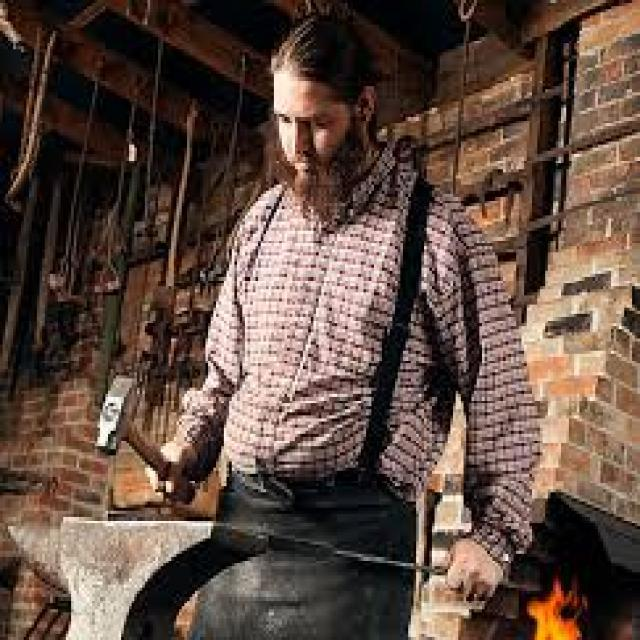hammer: (94, 362, 202, 509)
